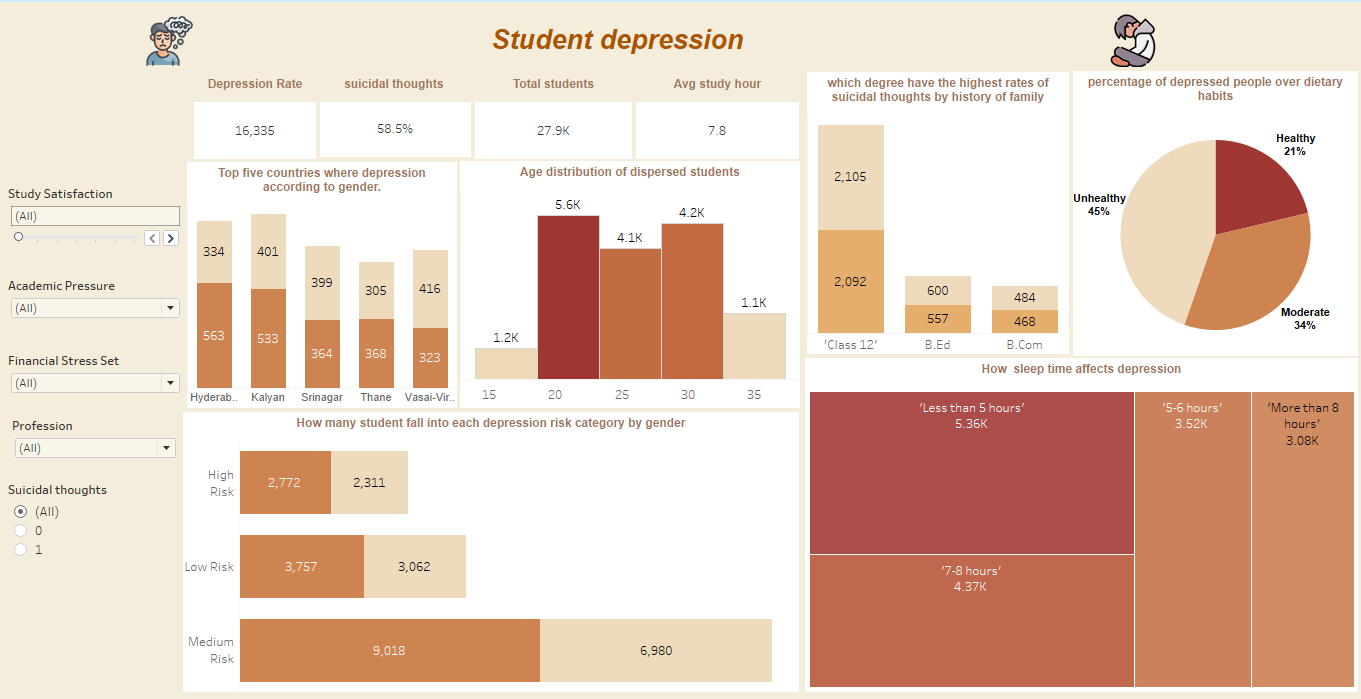

The page's visual inventory and layout, read from the dashboard file:
{"tool":"tableau","page":{"name":"Dashboard 2","canvas":[1000,1000],"units":"permille","ordinal":0},"visuals":[{"type":"image","param":"Image/mental-disorder.png","box":[6.9,14.5,276.2,87]},{"type":"title","box":[283.1,14.5,503,87]},{"type":"image","param":"Image/loneliness.png","box":[786.1,14.5,206.9,87]},{"type":"blank","box":[6.9,101.5,51.8,127.8]},{"type":"worksheet","title":"Depression Rate","mark":"Automatic","box":[58.8,101.5,109.1,127.8]},{"type":"worksheet","title":"suicidal thoughts rate","mark":"Automatic","box":[167.9,101.5,134.2,127.8]},{"type":"worksheet","title":"Total students","mark":"Automatic","box":[302.1,101.5,139.4,127.8]},{"type":"worksheet","title":"AVG STUDY HOUR","mark":"Automatic","box":[441.4,101.5,148.1,127.8]},{"type":"worksheet","title":"top clases have sucide thoughts","mark":"Automatic","rows":["Suicidal thoughts"],"cols":["Degree"],"box":[589.5,101.5,230.3,507.2]},{"type":"worksheet","title":"percentage of depressed people over dietry habit","mark":"Pie","box":[819.8,101.5,173.3,507.2]},{"type":"blank","box":[6.9,229.2,128,43.5]},{"type":"worksheet","title":"Top five country have depressed people","mark":"Automatic","rows":["Depression"],"cols":["City"],"box":[135,229.2,239.8,447.5]},{"type":"worksheet","title":"distribution of age","mark":"Automatic","rows":["Age"],"cols":["Age (bin)"],"box":[374.8,229.2,214.7,447.5]},{"type":"filter","title":"How  sleep time affect on depression","param":"[federated.1h60cqr1gpy2e616mcsy21113ao9].[none:Study Satisfaction:ok]","box":[6.9,272.7,128,142.6]},{"type":"filter","title":"Depression Rate","param":"[federated.1h60cqr1gpy2e616mcsy21113ao9].[none:Academic Pressure:ok]","box":[6.9,415.3,128,135.9]},{"type":"filter","title":"Depression Rate","param":"[federated.1h60cqr1gpy2e616mcsy21113ao9].[Financial Stress Set]","box":[6.9,551.2,128,110.5]},{"type":"worksheet","title":"How  sleep time affect on depression","mark":"Automatic","box":[589.5,608.7,403.6,376.8]},{"type":"filter","title":"Depression Rate","param":"[federated.1h60cqr1gpy2e616mcsy21113ao9].[none:Profession:nk]","box":[6.9,661.7,128,123.2]},{"type":"worksheet","title":"How many student fall into each depression risk category by gender","mark":"Automatic","rows":["Calculation_633037247002742785"],"cols":["id"],"box":[135,676.7,454.6,308.8]},{"type":"filter","title":"suicidal thoughts rate","param":"[federated.1h60cqr1gpy2e616mcsy21113ao9].[none:Suicidal thoughts (copy)_11585510","box":[6.9,784.9,128,142.6]},{"type":"blank","box":[6.9,927.5,128,58]}]}

Visuals, with their boxes on the dashboard's canvas, which has no fixed pixel size, in thousandths of its width and height (x1, y1, x2, y2). These are canvas units, not pixel positions in the 1361x699 screenshot, which may show the page scaled, cropped or inside an application window:
image: 7:14:283:102
title: 283:14:786:102
image: 786:14:993:102
blank: 7:102:59:229
"Depression Rate" worksheet: 59:102:168:229
"suicidal thoughts rate" worksheet: 168:102:302:229
"Total students" worksheet: 302:102:442:229
"AVG STUDY HOUR" worksheet: 441:102:590:229
"top clases have sucide thoughts" worksheet: 590:102:820:609
"percentage of depressed people over dietry habit" worksheet (Pie marks): 820:102:993:609
blank: 7:229:135:273
"Top five country have depressed people" worksheet: 135:229:375:677
"distribution of age" worksheet: 375:229:590:677
"How  sleep time affect on depression" filter: 7:273:135:415
"Depression Rate" filter: 7:415:135:551
"Depression Rate" filter: 7:551:135:662
"How  sleep time affect on depression" worksheet: 590:609:993:986
"Depression Rate" filter: 7:662:135:785
"How many student fall into each depression risk category by gender" worksheet: 135:677:590:986
"suicidal thoughts rate" filter: 7:785:135:928
blank: 7:928:135:986
